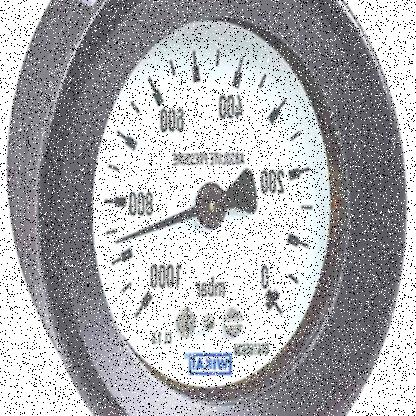needle: (115, 203, 198, 245)
